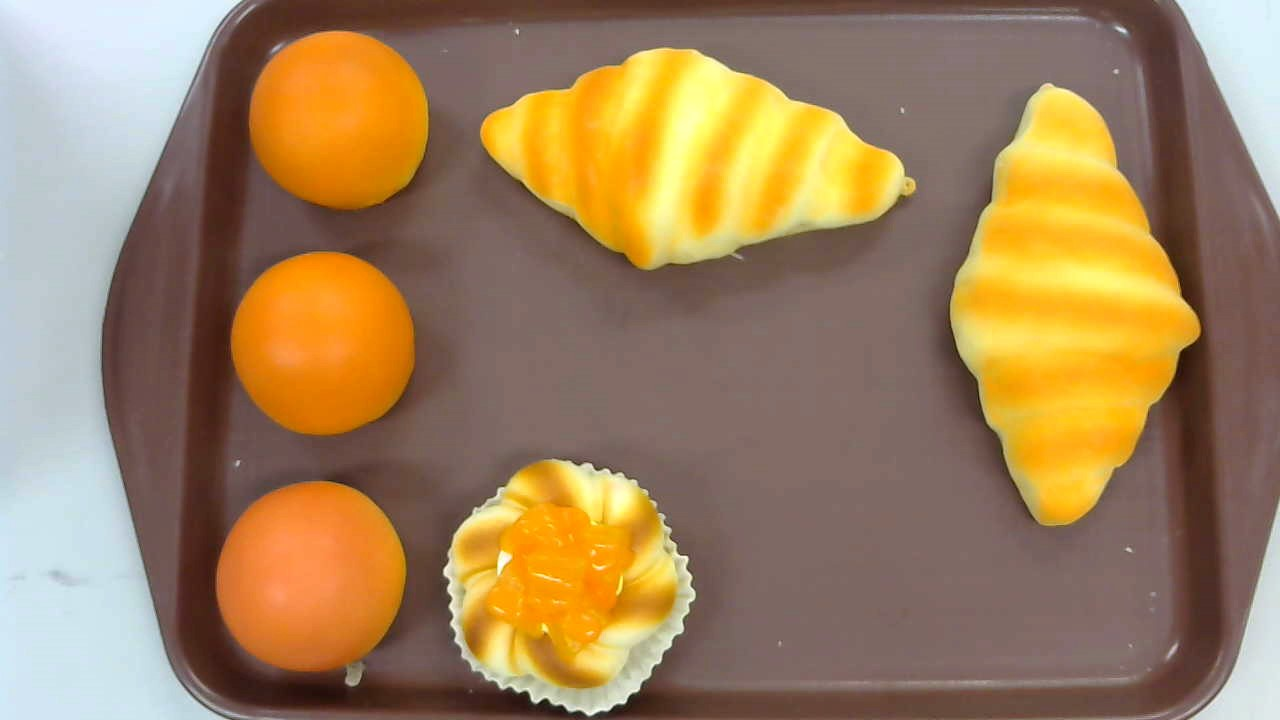bun: (216, 481, 406, 672), (229, 252, 416, 435), (249, 30, 429, 209)
croissant: (949, 81, 1201, 527), (479, 47, 916, 272)
mango tart: (444, 458, 697, 716)
